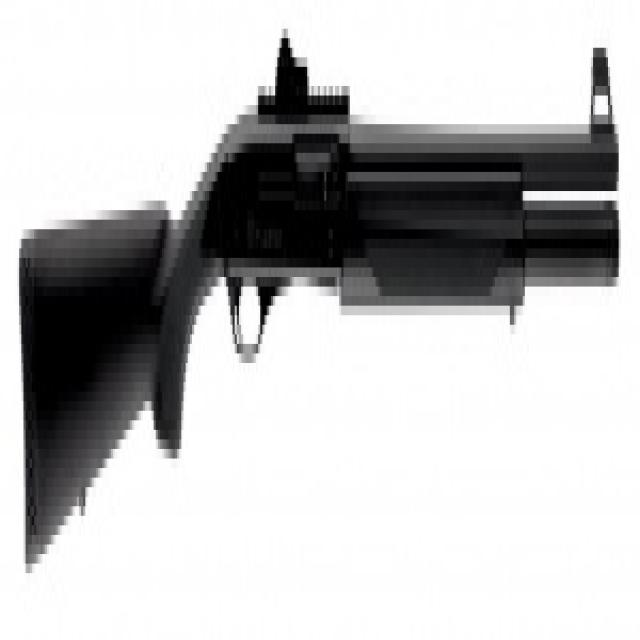rifle: (18, 38, 624, 600)
